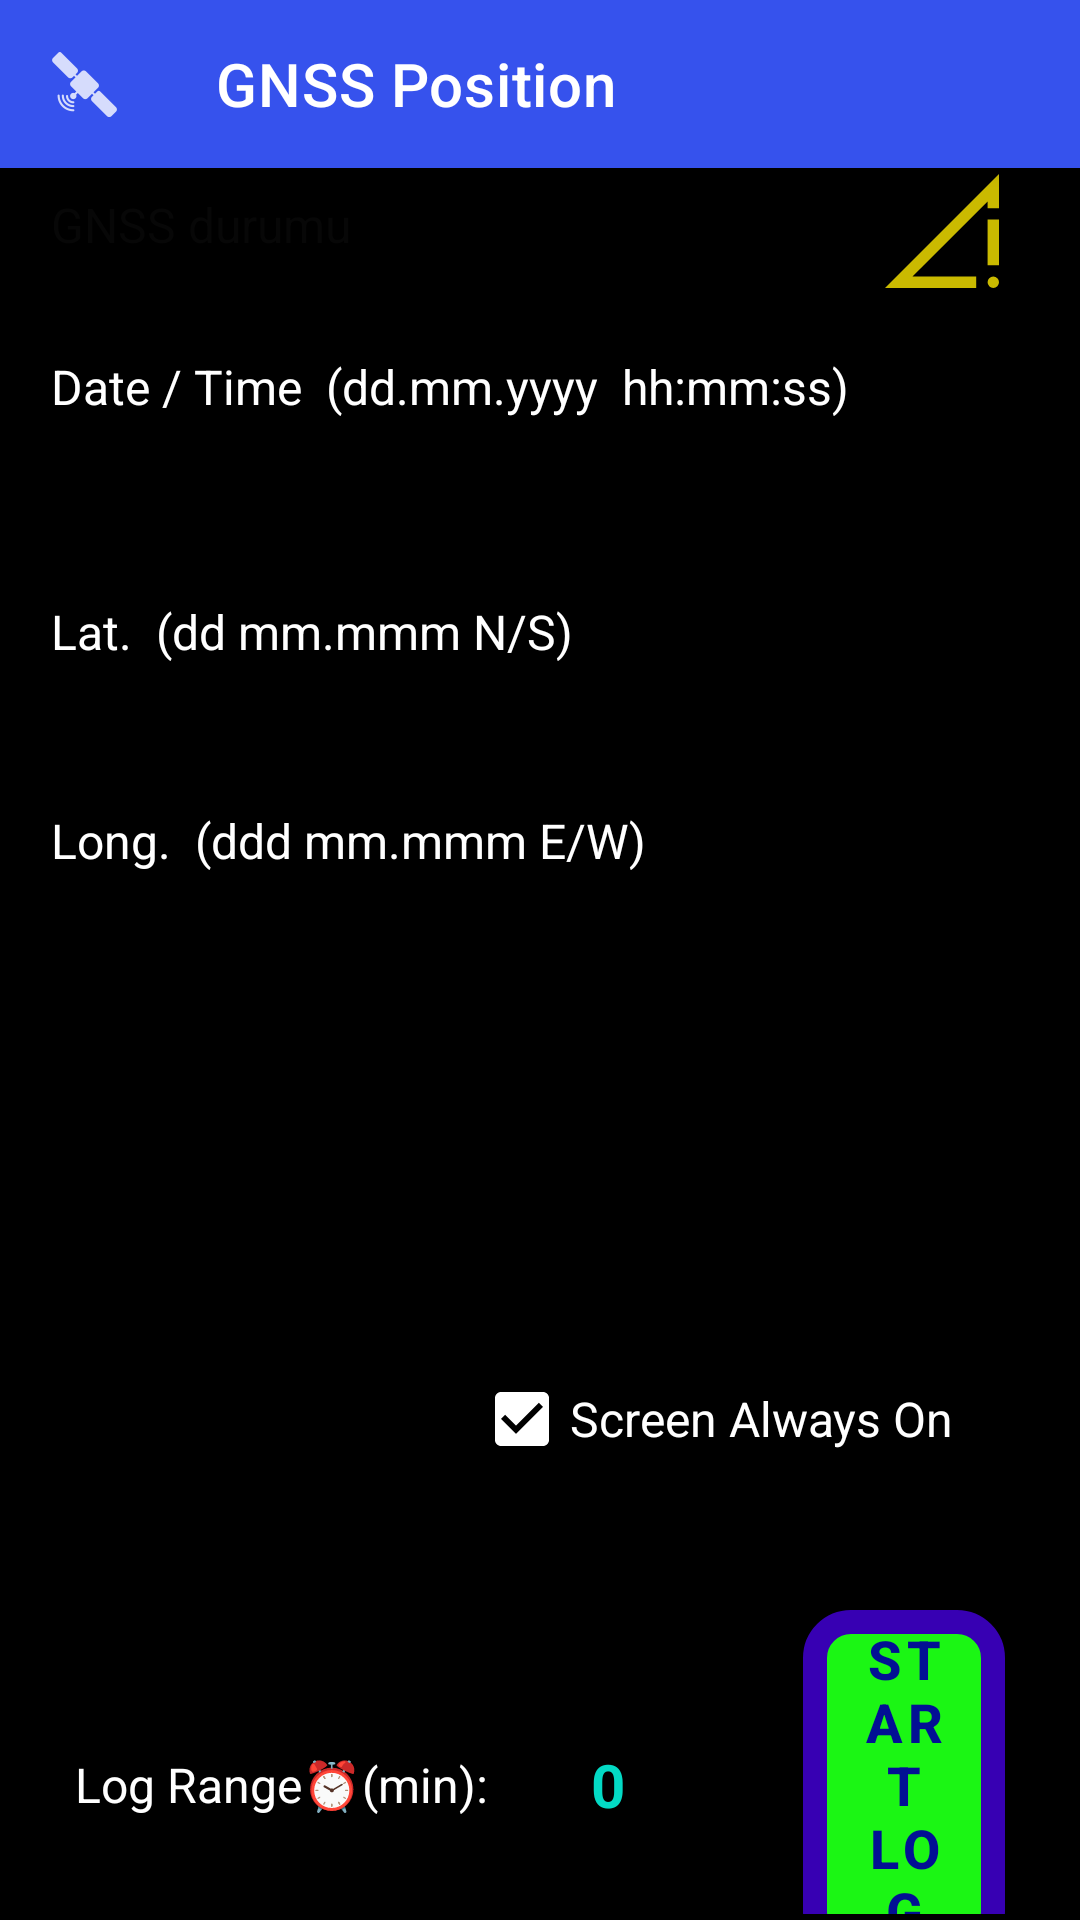

Screen size 1080*1920. Icon name, then its box in pixels as [left=x1, top=y1, right=x2, bottom=y2]:
Sinyal seviyesi: [left=885, top=174, right=999, bottom=288]
